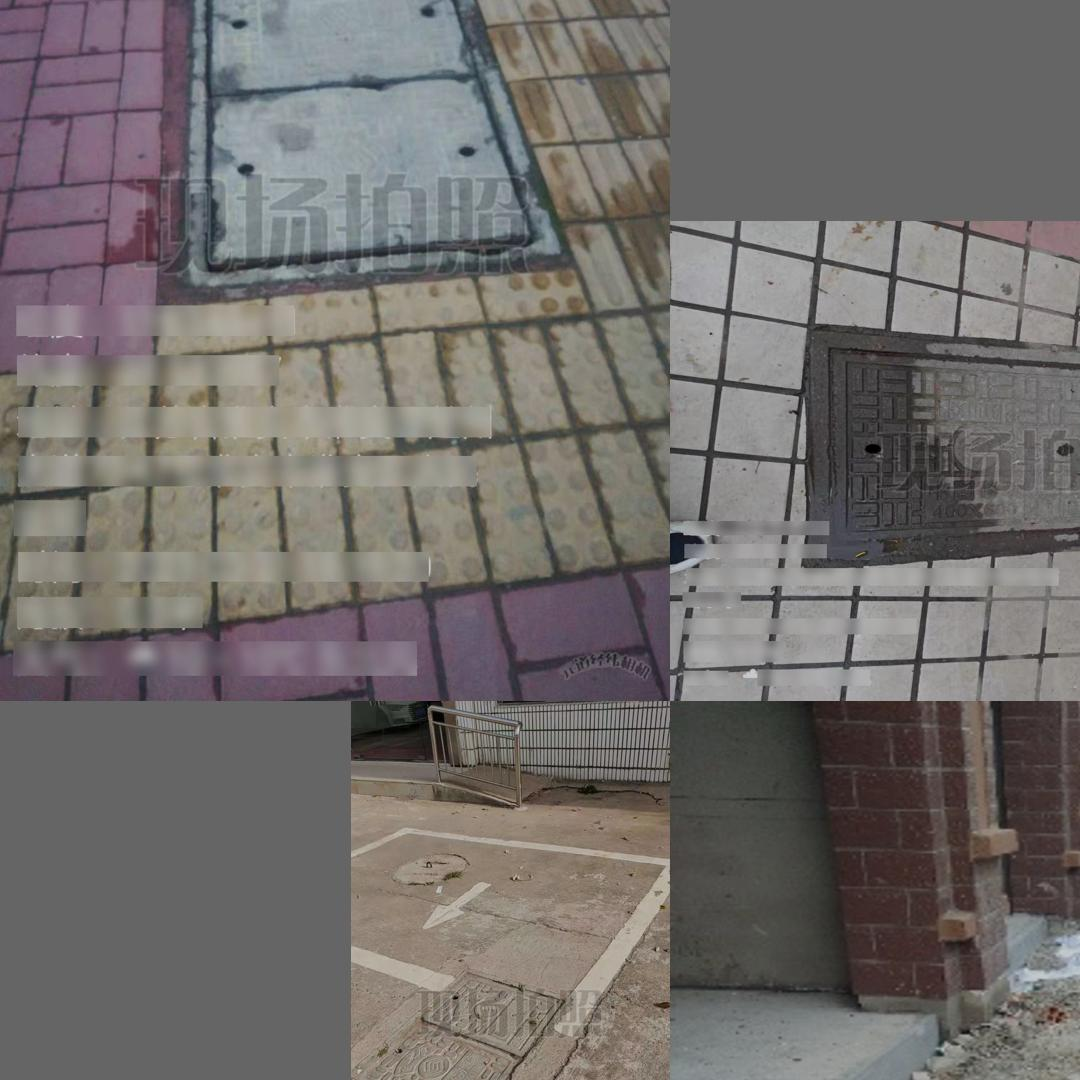good: (190, 0, 563, 282), (808, 329, 1080, 553), (351, 966, 568, 1080)
